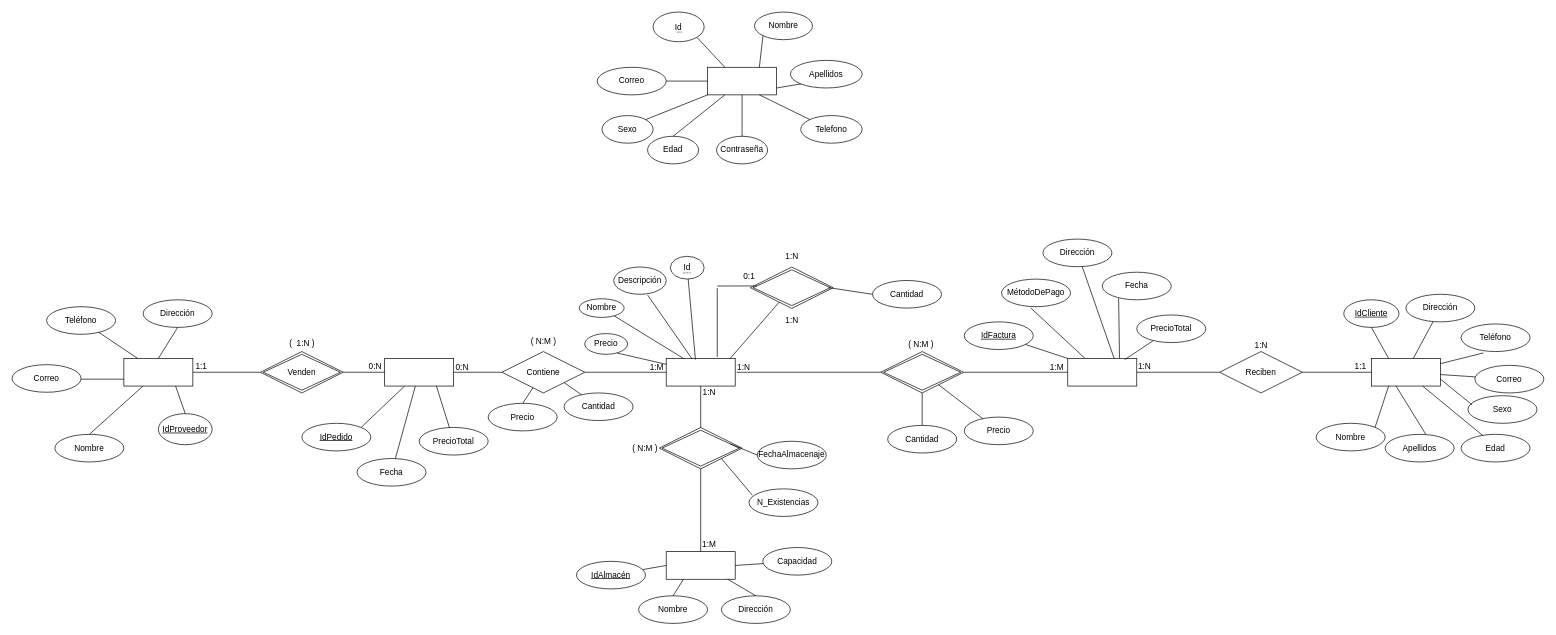
Image size: 1556x635. Some labels were removed from this diagram. The shapes that lost their labels are listed below. From the top down, each one's box as (x1, y1, x2, y2) in pixels, then its label:
(707, 67, 777, 95): Empleados
(750, 266, 833, 308): Forma_equipo
(123, 358, 193, 386): Proveedores
(384, 358, 454, 386): Pedido
(666, 358, 735, 386): Productos
(880, 351, 964, 393): Compuesta
(1067, 358, 1137, 386): Factura
(1371, 358, 1440, 386): Clientes
(659, 427, 742, 469): Almacena
(666, 551, 735, 579): Almacén
